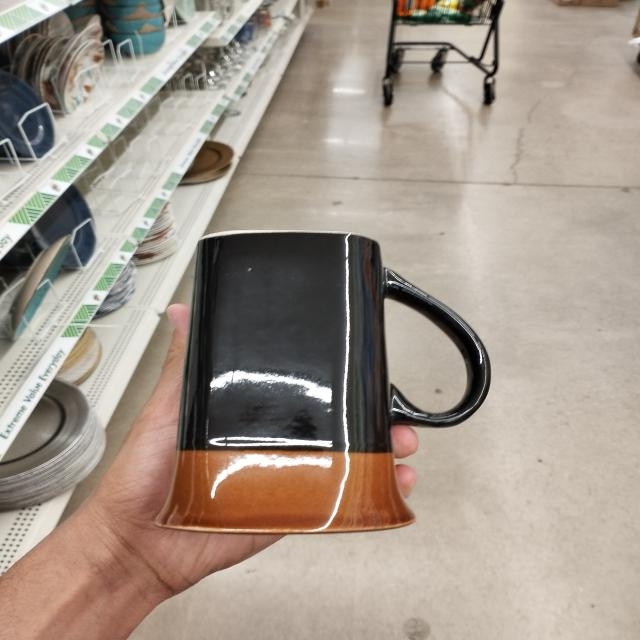Cup: (137, 220, 513, 548)
